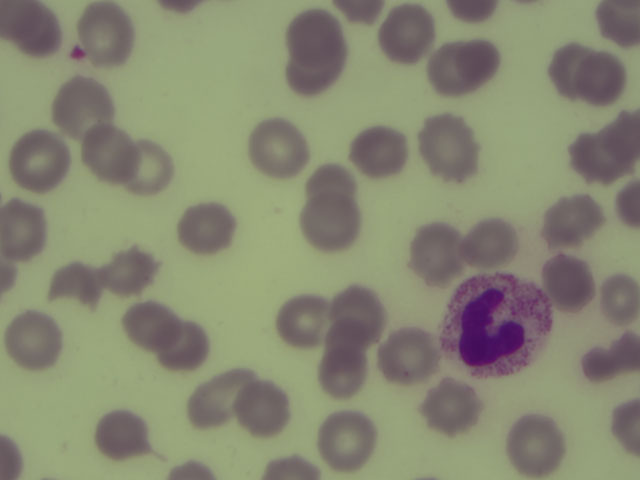Platelets: (65, 41, 86, 64)
RBC: (330, 283, 389, 340), (274, 291, 333, 344), (1, 196, 45, 267), (283, 49, 347, 97), (568, 134, 629, 184), (465, 217, 516, 269), (508, 417, 559, 469), (425, 380, 476, 432), (322, 412, 373, 464), (384, 329, 435, 381), (421, 120, 472, 172), (304, 198, 355, 250), (318, 342, 369, 394), (238, 379, 289, 431), (190, 370, 241, 422), (354, 128, 405, 180), (157, 320, 208, 372), (94, 408, 145, 460), (183, 200, 234, 252), (8, 313, 59, 365), (50, 255, 101, 307), (104, 245, 155, 297), (13, 137, 64, 189), (122, 139, 173, 191), (85, 126, 136, 178), (56, 82, 107, 134), (251, 122, 302, 174), (436, 39, 487, 91), (382, 8, 433, 60), (288, 10, 339, 62), (80, 10, 131, 62), (6, 4, 57, 56), (408, 227, 459, 279), (545, 258, 596, 310), (548, 195, 599, 247), (579, 51, 627, 105), (124, 302, 176, 345), (548, 40, 589, 94), (306, 164, 354, 208), (598, 110, 640, 160), (579, 343, 640, 377), (600, 270, 640, 321), (595, 1, 640, 46), (608, 396, 640, 456), (265, 452, 320, 480)
WBC: (441, 278, 545, 379)
